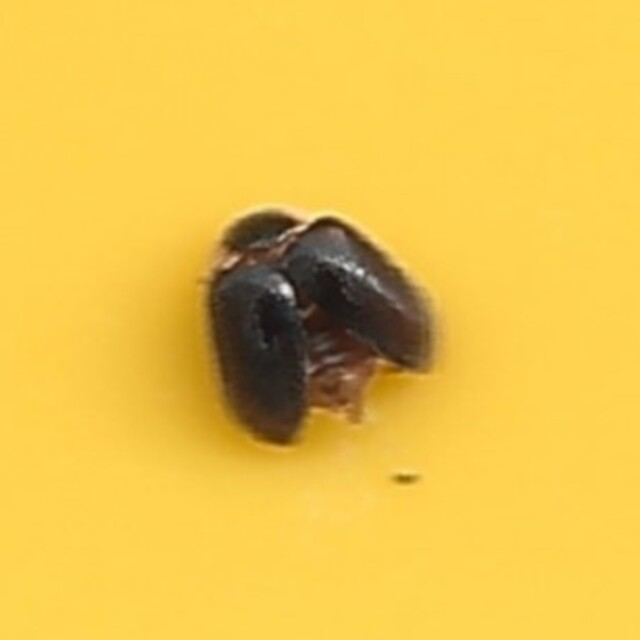Coleoptera: (208, 197, 432, 443)
